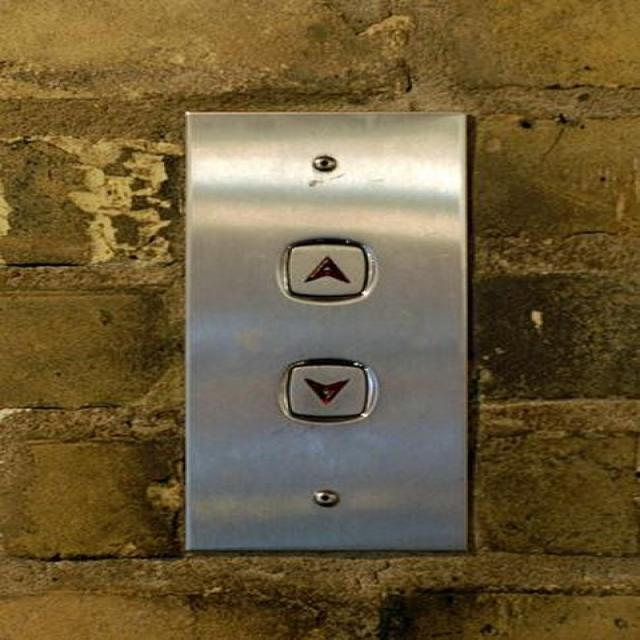down: (275, 354, 380, 426)
up: (271, 233, 378, 305)
